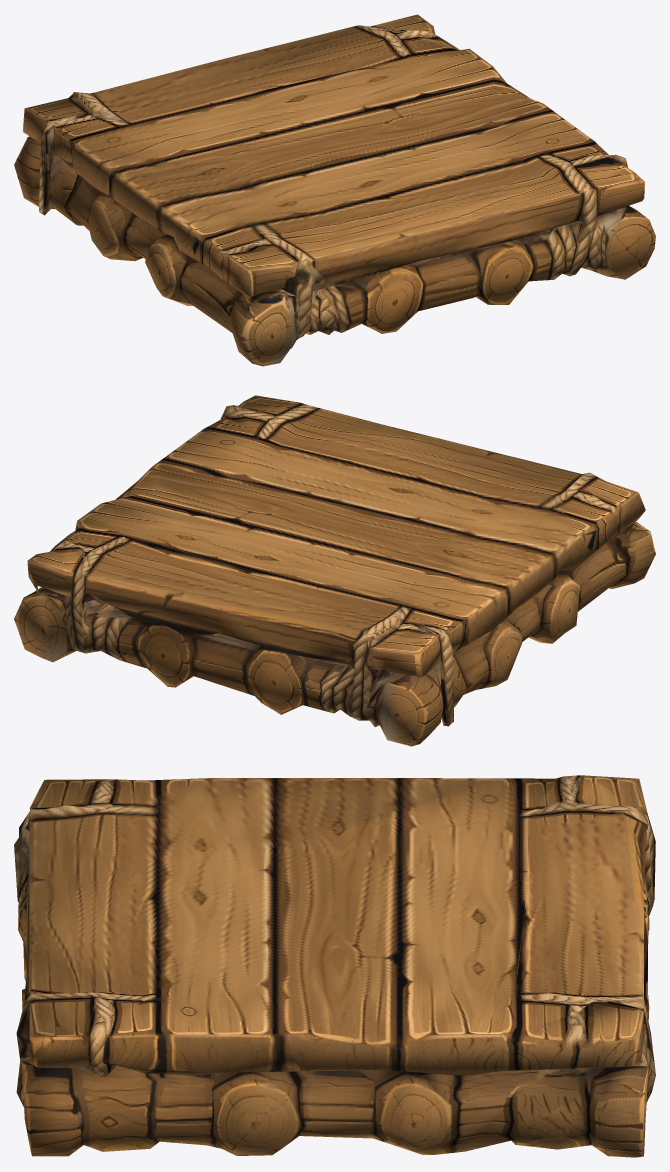
File: raft_v3.glb
3 views of the same model, one above another, from view 1: azimuth 30°, elevation 25°; view 2: azimuth 150°, elevation 25°; view 3: azimuth 270°, elevation 25° (orthographic). The views are drawn at different scales.
Size of the model in its own units: 1.92 by 0.4584 by 1.91.
Materials: 1 (1 with a texture image).
